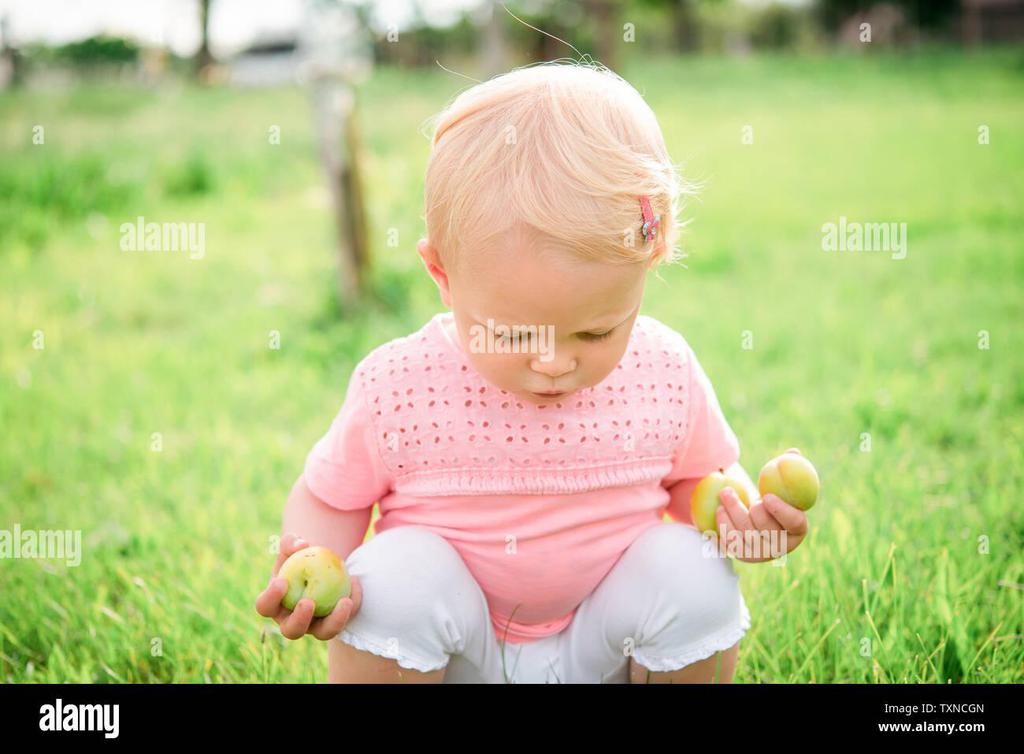child: (231, 40, 823, 684)
